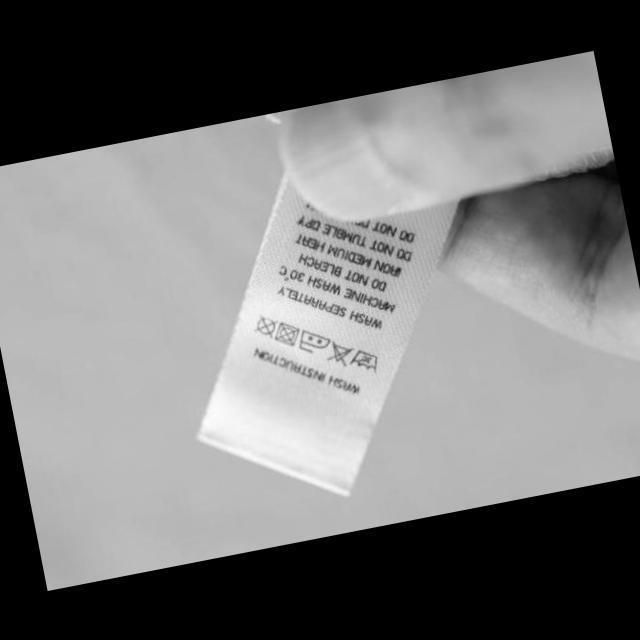30C: (346, 343, 382, 378)
DN_bleach: (320, 336, 357, 370)
DN_dry_clean: (248, 309, 282, 342)
DN_tumble_dry: (268, 316, 304, 351)
iron_medium: (292, 322, 333, 358)
